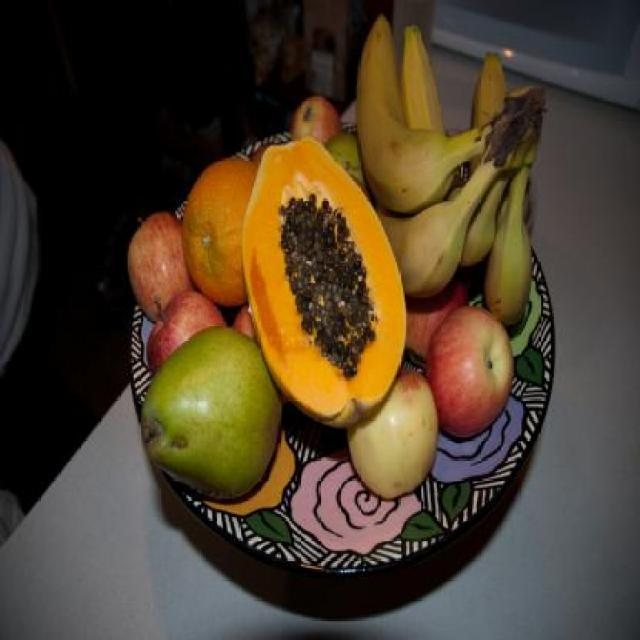Orange: (180, 160, 262, 314)
